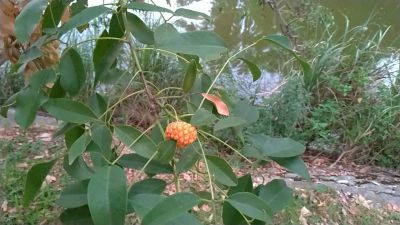eggs: (165, 117, 198, 146)
